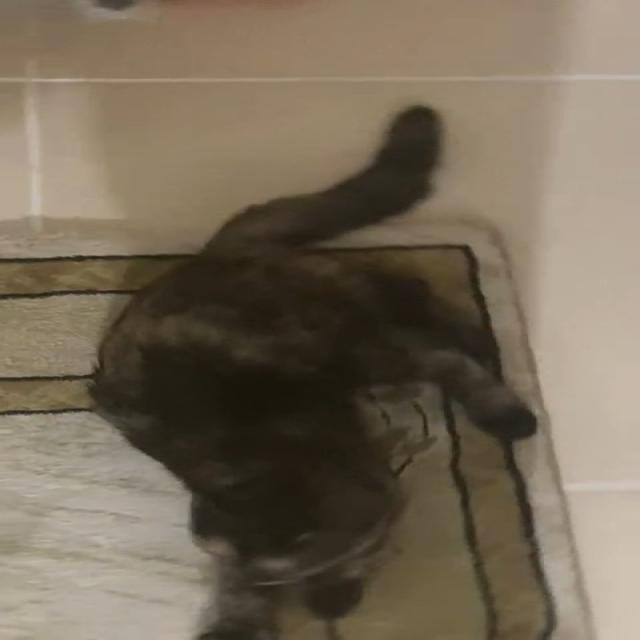authorized: (86, 104, 562, 638)
